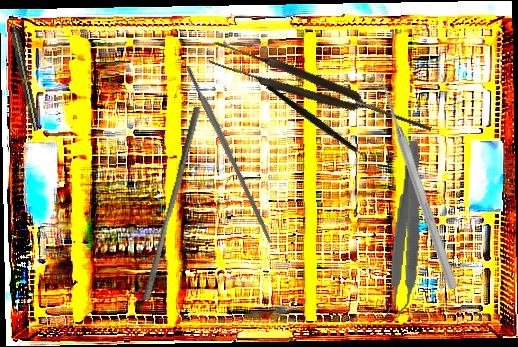Chopper: (265, 56, 380, 189)
Handpiece: (6, 14, 42, 132)
Pusher: (374, 75, 461, 291), (141, 104, 201, 303)
Scalpel Handle: (184, 63, 275, 245)
Tissue Forceps: (207, 37, 436, 145), (382, 140, 427, 319)
